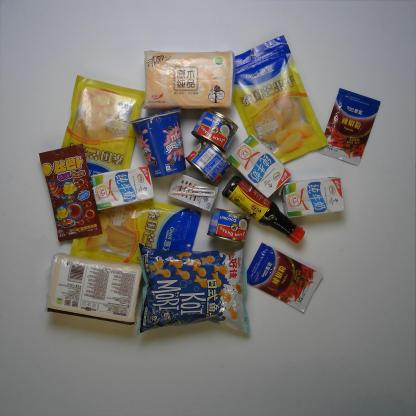Candy: (38, 142, 103, 242)
Canned Food: (185, 137, 233, 186), (190, 107, 239, 153), (206, 207, 251, 245)
Dessert: (128, 108, 187, 179)
Dried Fruit: (230, 34, 330, 164), (69, 195, 202, 281), (60, 74, 148, 188)
Milk: (228, 134, 292, 198), (90, 165, 154, 211), (277, 176, 345, 219), (166, 170, 220, 212)
Puffed Food: (137, 238, 254, 336)
Seasoner: (222, 174, 305, 245), (245, 242, 324, 314), (318, 87, 380, 167)
Tissue: (44, 252, 143, 326), (143, 50, 235, 109)
